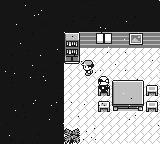leer: (129, 33, 143, 45)
main: (81, 60, 94, 76)
no-caminable: (1, 0, 160, 143), (112, 81, 143, 111), (80, 32, 128, 48), (65, 33, 80, 63), (144, 32, 160, 48), (64, 128, 80, 143)
npc: (98, 76, 110, 93)
